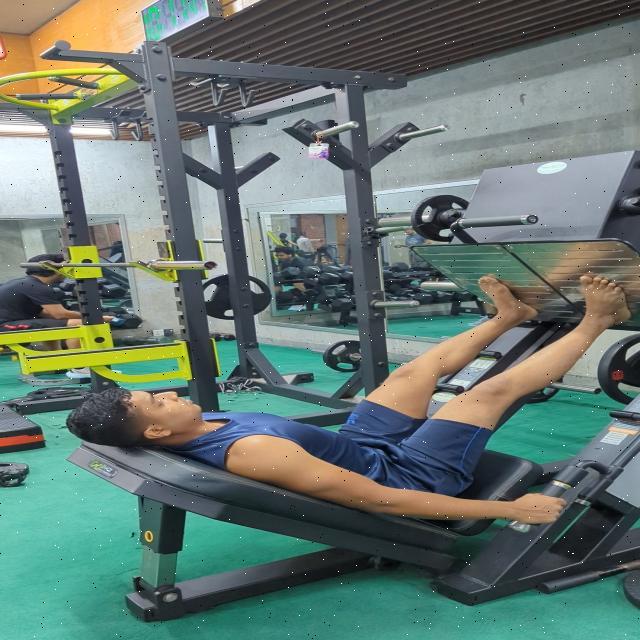Normal_LegPress: (68, 268, 640, 528)
